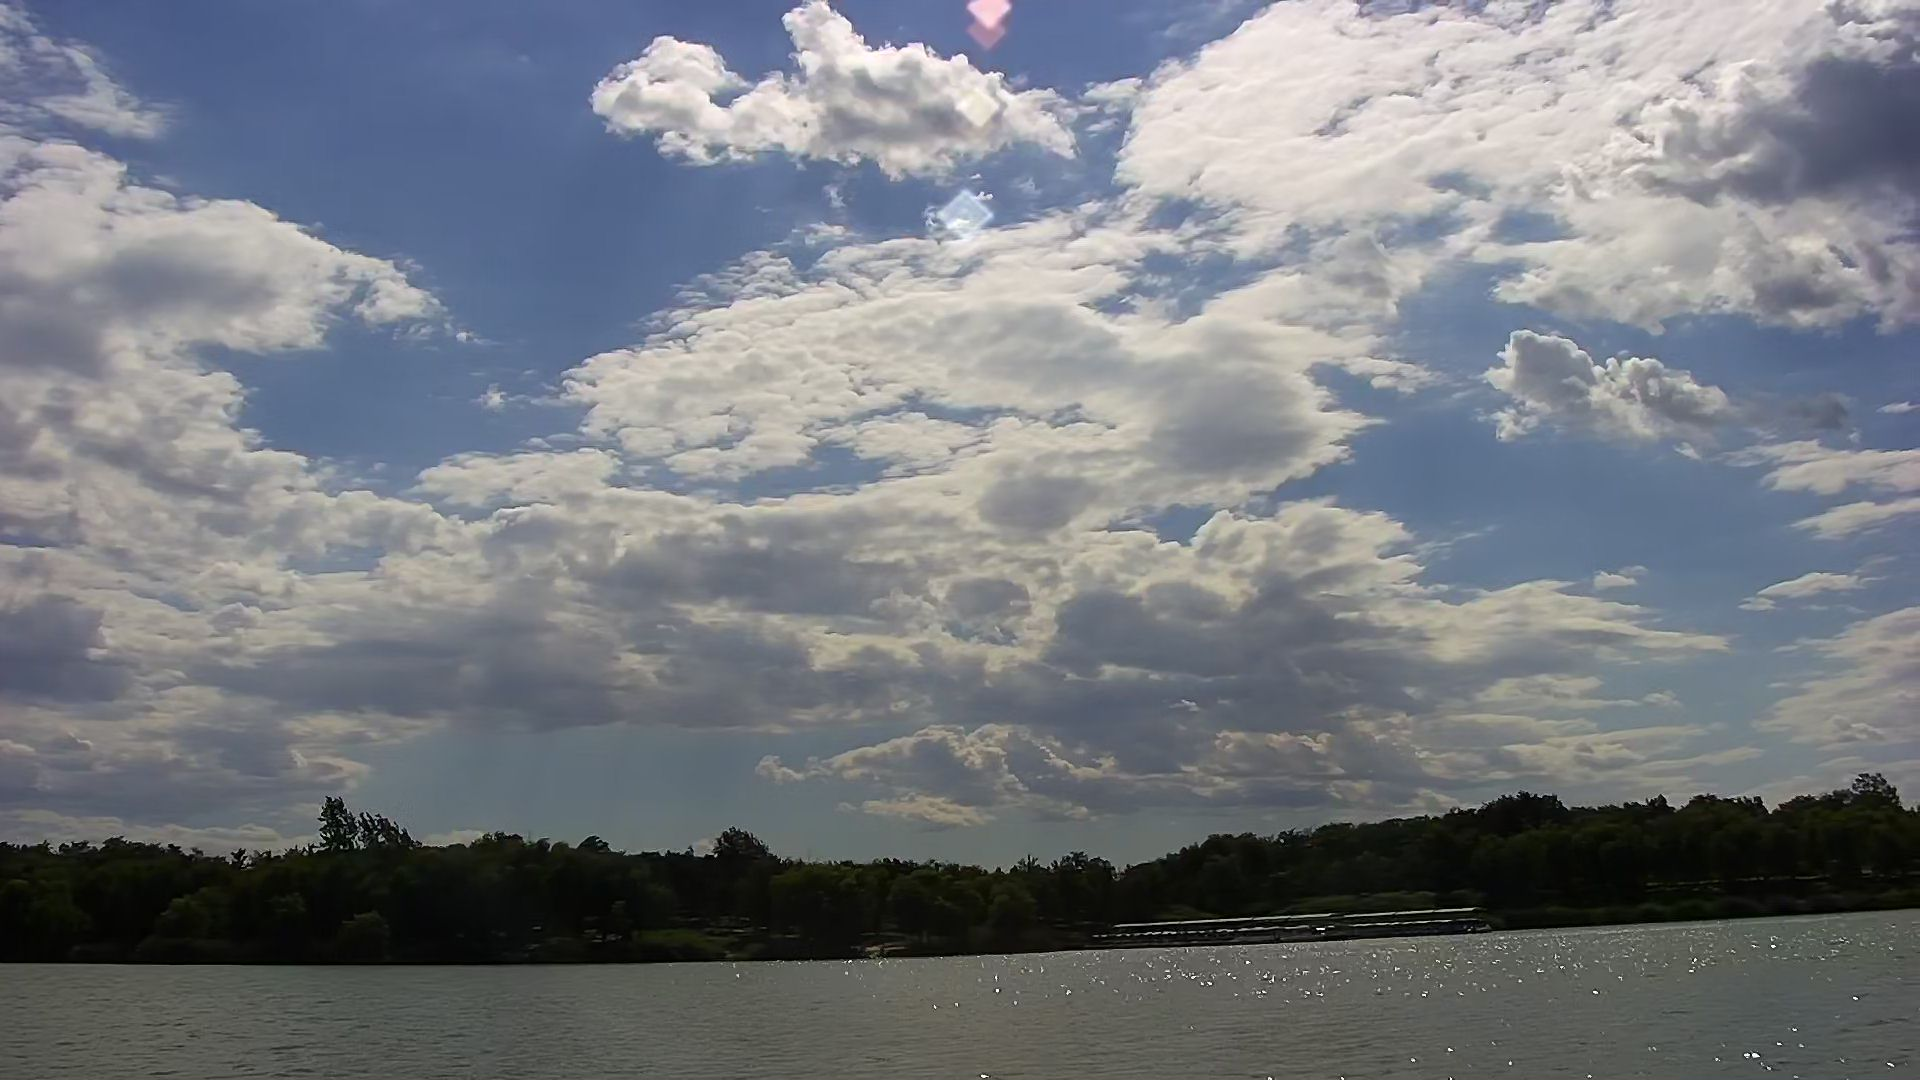harbor: (1093, 895, 1511, 953)
